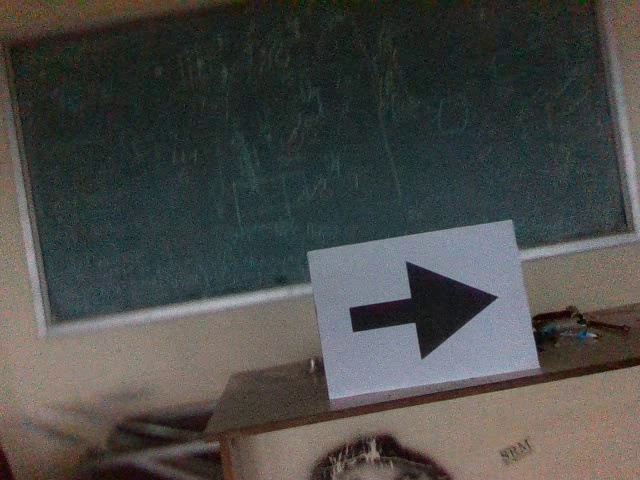Right: (338, 258, 502, 363)
